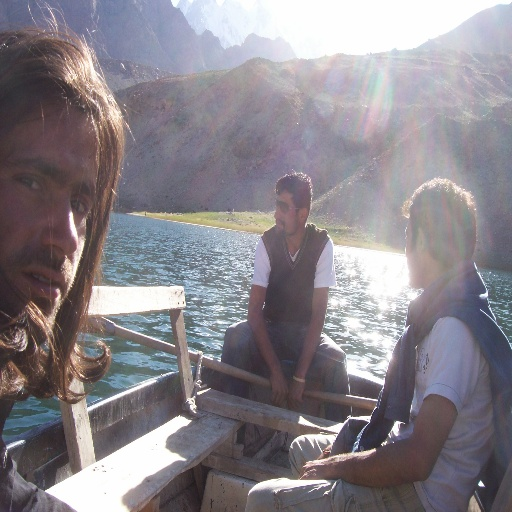hand: (297, 459, 334, 481), (269, 368, 288, 407), (288, 379, 305, 408), (317, 451, 329, 460)
